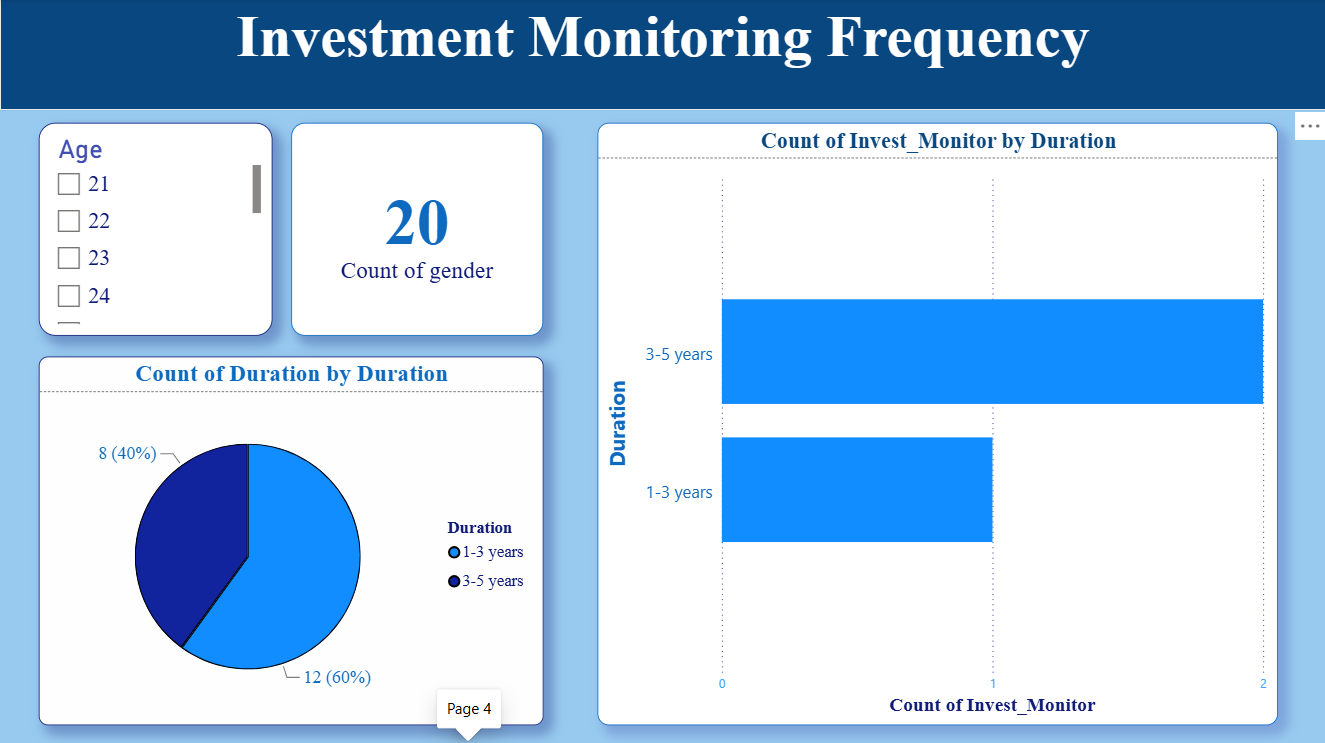

The dashboard page shown, as its layout file describes it:
{"tool":"powerbi","page":{"name":"Page 4","canvas":[1280,720],"ordinal":3},"visuals":[{"type":"textbox","box":[0,0,1279.7,107.4],"z":0},{"type":"pieChart","fields":{"Category":["Data_set 2.Duration"],"Y":["CountNonNull(Data_set 2.Duration)"]},"box":[37.6,345.4,486.8,356.2],"z":1000},{"type":"clusteredBarChart","fields":{"Y":["Count(Data_set 2.Invest_Monitor)"],"Category":["Data_set 2.Duration"]},"box":[576.3,119.9,656.8,581.7],"z":2000},{"type":"slicer","fields":{"Values":["Data_set 2.age"]},"box":[37.6,119.9,225.5,205.8],"z":3000},{"type":"card","fields":{"Values":["CountNonNull(Data_set 2.gender)"]},"box":[281,119.9,243.4,205.8],"z":4000}]}

Visuals, with their boxes in screenshot pixels (x1, y1, x2, y2), scaled from the page's 1280x720 canvas onto the 1325x743 screenshot:
textbox: crop(0, 0, 1324, 111)
pieChart - Data_set 2.Duration x CountNonNull(Data_set 2.Duration): crop(39, 356, 543, 724)
clusteredBarChart - Count(Data_set 2.Invest_Monitor) x Data_set 2.Duration: crop(597, 124, 1276, 724)
slicer - Data_set 2.age: crop(39, 124, 272, 336)
card - CountNonNull(Data_set 2.gender): crop(291, 124, 543, 336)
